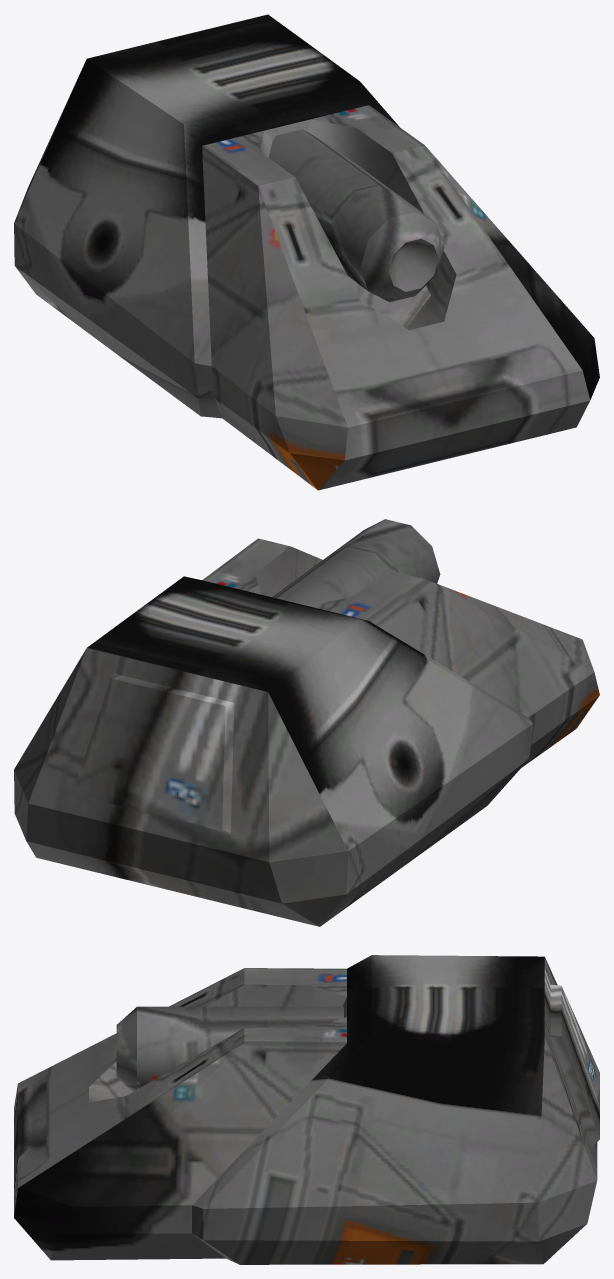
File: corvettegun.1.obj
The picture shows the model from 3 angles, top to bottom: view 1: azimuth 30°, elevation 25°; view 2: azimuth 150°, elevation 25°; view 3: azimuth 270°, elevation 25°; orthographic projection. The views are drawn at different scales.
Parts seen in each view (by area): view 1: Corvette_Turret; view 2: Corvette_Turret; view 3: Corvette_Turret.
Part boxes in pixels (box(x1,y1,x2,y2)): Corvette_Turret: box(14, 14, 599, 490); Corvette_Turret: box(14, 519, 599, 926); Corvette_Turret: box(14, 955, 599, 1264).
Bounding box in the file's own units: 3.08 × 1.98 × 5.04.
Materials: 1 (1 with a texture image).
